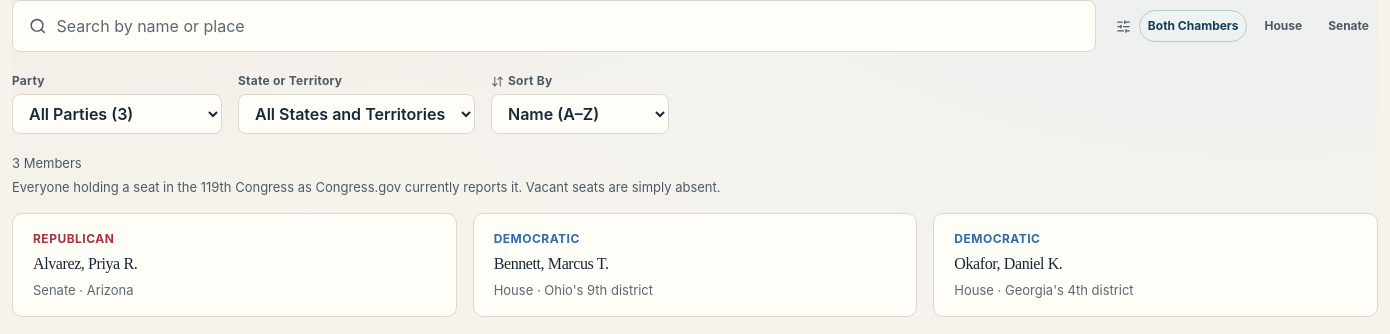
MemberDirectory › restores the whole roster when the filters are cleared
This screenshot has width=1390, height=334.
Type "alvarez" into the search field named "Search members".
click(567, 26); type("alvarez")  # box [55,13,1079,39]
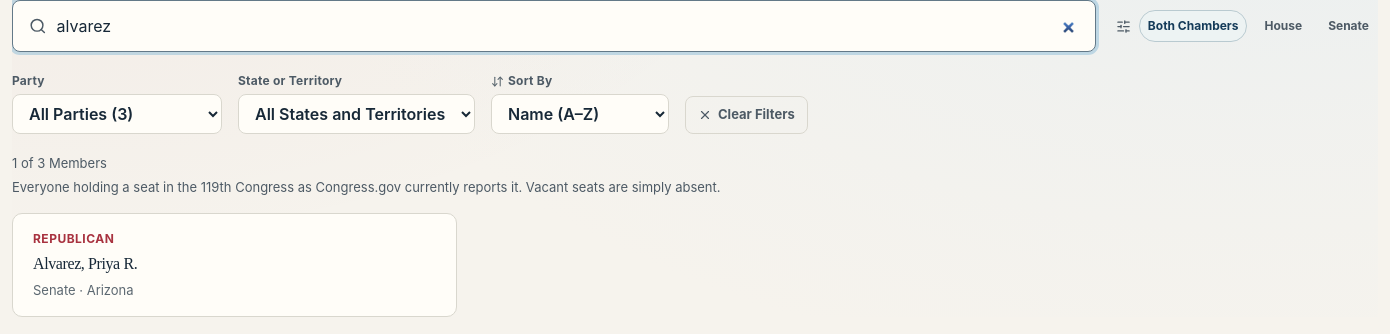
Click the button "Clear Filters".
click(746, 115)  # box [685,96,808,134]
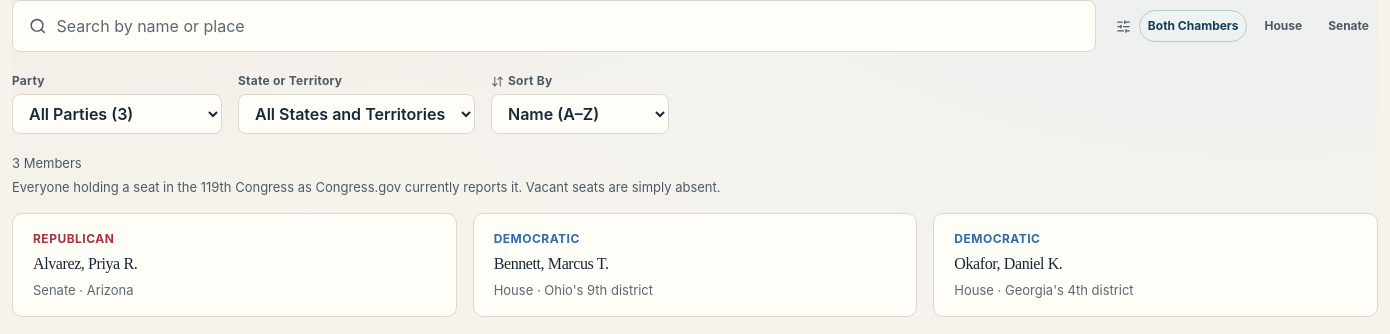
Now the number of links is 3, box [33,255,137,272]; [494,255,609,272]; [954,255,1062,272]
Now the search field named "Search members" is empty, box [55,13,1079,39]
